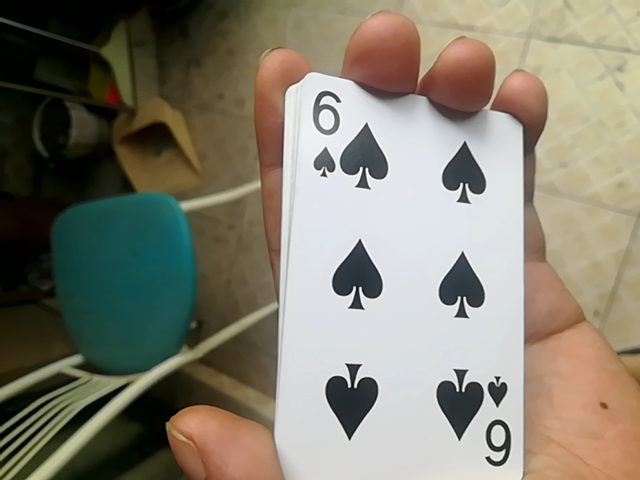ht 6: (268, 80, 520, 480)
